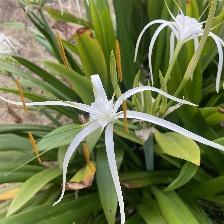spider lily: (1, 73, 224, 224)
